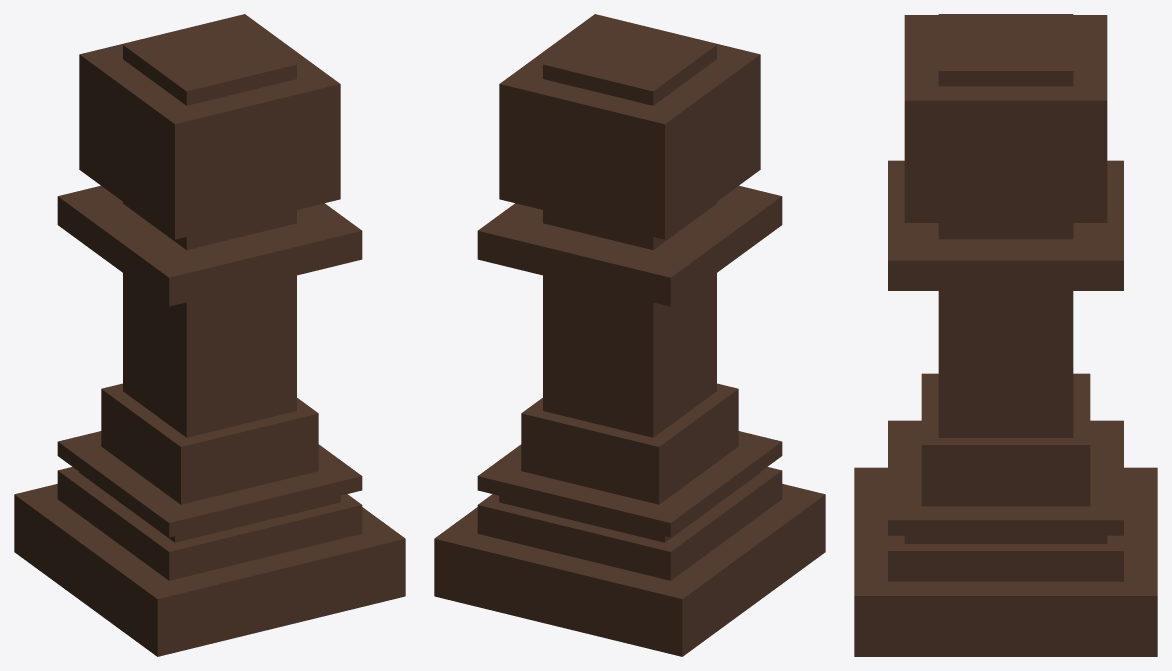
File: black_pawn.glb
The picture shows the model from 3 angles, left to right: view 1: azimuth 30°, elevation 25°; view 2: azimuth 150°, elevation 25°; view 3: azimuth 270°, elevation 25°; orthographic projection. The views are drawn at different scales.
Visible parts, largest first — view 1: Untitled; view 2: Untitled; view 3: Untitled.
Part boxes in pixels (x1,y1,x2,y2): Untitled: [14, 14, 405, 656]; Untitled: [434, 14, 825, 656]; Untitled: [854, 14, 1157, 656].
Bounding box in the file's own units: 0.54 × 1.08 × 0.54.
Materials: 1 (1 with a texture image).
